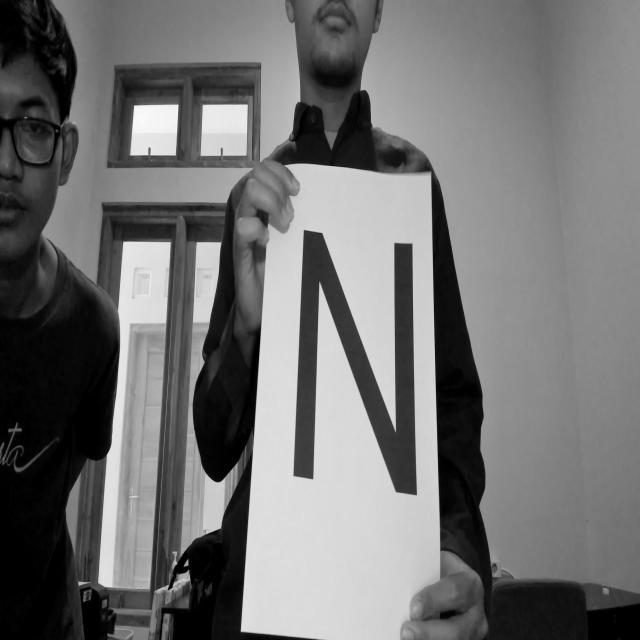n: (280, 216, 436, 514)
